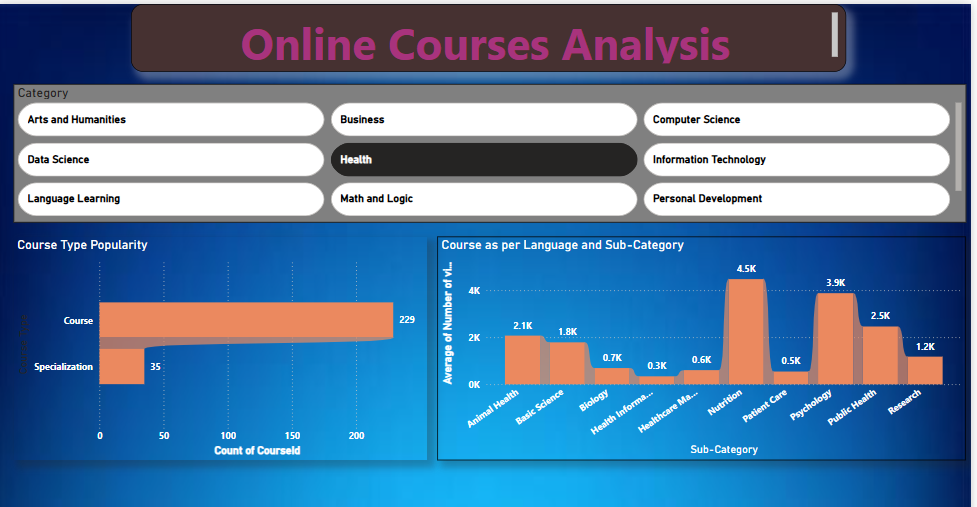

The page's visual inventory and layout, read from the dashboard file:
{"tool":"powerbi","page":{"name":"Page 1","canvas":[1300,1500],"ordinal":0},"visuals":[{"type":"textbox","box":[180,0,953.3,90],"z":0},{"type":"advancedSlicerVisual","fields":{"Values":["Online_Courses.Category"]},"box":[23.3,106.7,1270,185],"z":1000},{"type":"barChart","title":"Course Type Popularity","fields":{"Category":["Online_Courses.Course Type"],"Y":["CountNonNull(Online_Courses.CourseId)"]},"box":[23.3,310,551.7,298.3],"z":2000},{"type":"columnChart","title":"Course as per Language and Sub-Category","fields":{"Category":["Online_Courses.Sub-Category","Online_Courses.Language"],"Y":["Avg(Online_Courses.Number of viewers)"]},"box":[588.3,310,705,298.3],"z":3000}]}

Visuals, with their boxes on the page's 1300x1500 design canvas (x1, y1, x2, y2). These are canvas units, not pixel positions in the 977x507 screenshot, which may show the page scaled, cropped or inside an application window:
textbox: bbox(180, 0, 1133, 90)
advancedSlicerVisual - Online_Courses.Category: bbox(23, 107, 1293, 292)
"Course Type Popularity" barChart: bbox(23, 310, 575, 608)
"Course as per Language and Sub-Category" columnChart: bbox(588, 310, 1293, 608)
